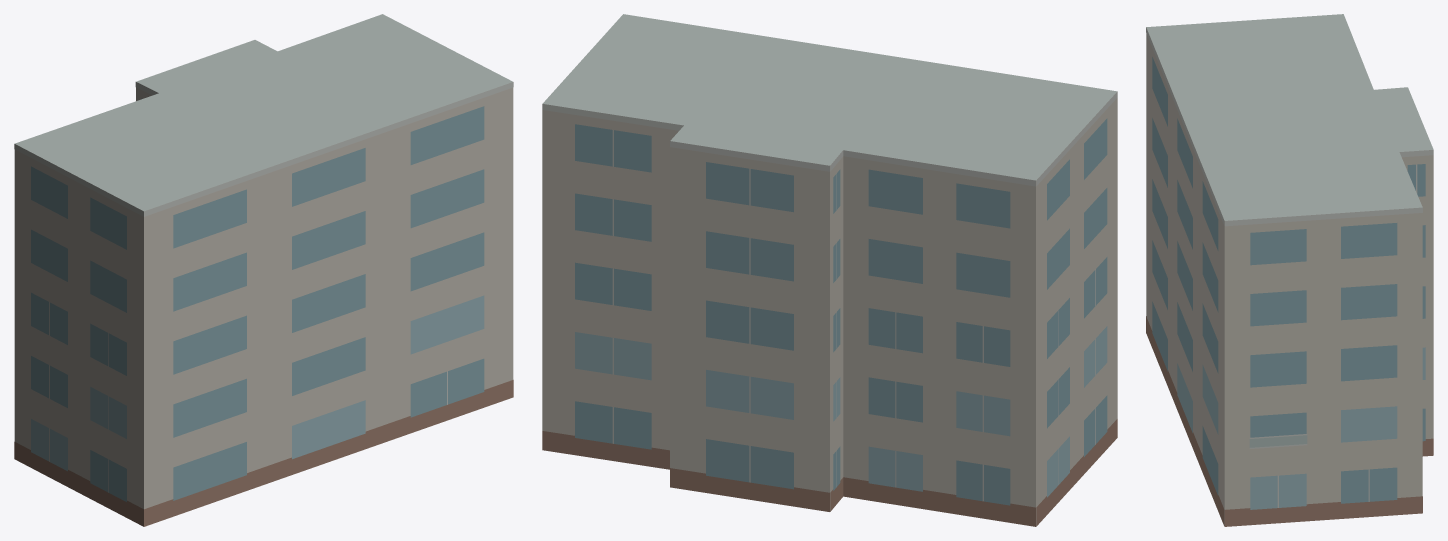
The model's file is survey-upis-32698811.glb.
3 renders of one model, left to right at view 1: azimuth 30°, elevation 25°; view 2: azimuth 150°, elevation 25°; view 3: azimuth 270°, elevation 25°, orthographic. The views are drawn at different scales.
Parts seen in each view (by area): view 1: survey-upis-32698811.tmp; view 2: survey-upis-32698811.tmp; view 3: survey-upis-32698811.tmp.
Part boxes in pixels (box(x1,y1,x2,y2)): survey-upis-32698811.tmp: box(14, 14, 513, 526); survey-upis-32698811.tmp: box(542, 14, 1117, 526); survey-upis-32698811.tmp: box(1146, 14, 1433, 526).
Size of the model in its own units: 20.19 by 13.9 by 11.85.
